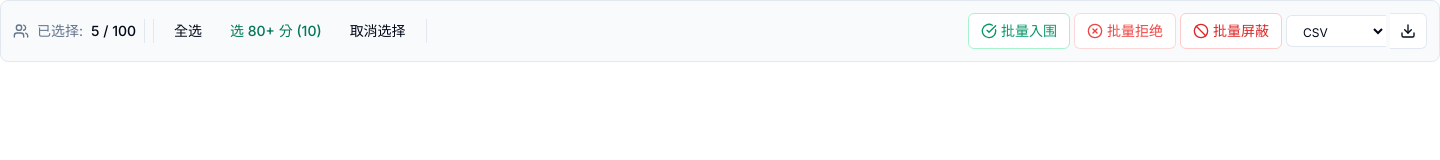
Scenario: BulkActionBar › resets the pending confirmation when the selection empties
Click the button "批量拒绝". click: (1125, 31)
box: [1074,13,1176,49]
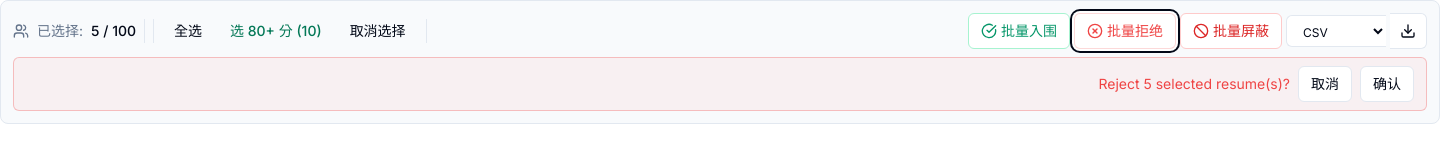
Check: the element with test id "bulk-confirm-row" is shown, box [13,57,1427,111]
